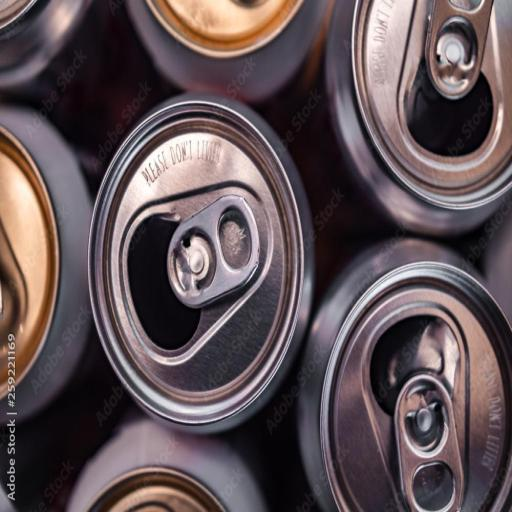can: (88, 98, 308, 430)
pop tab: (168, 188, 262, 306)
